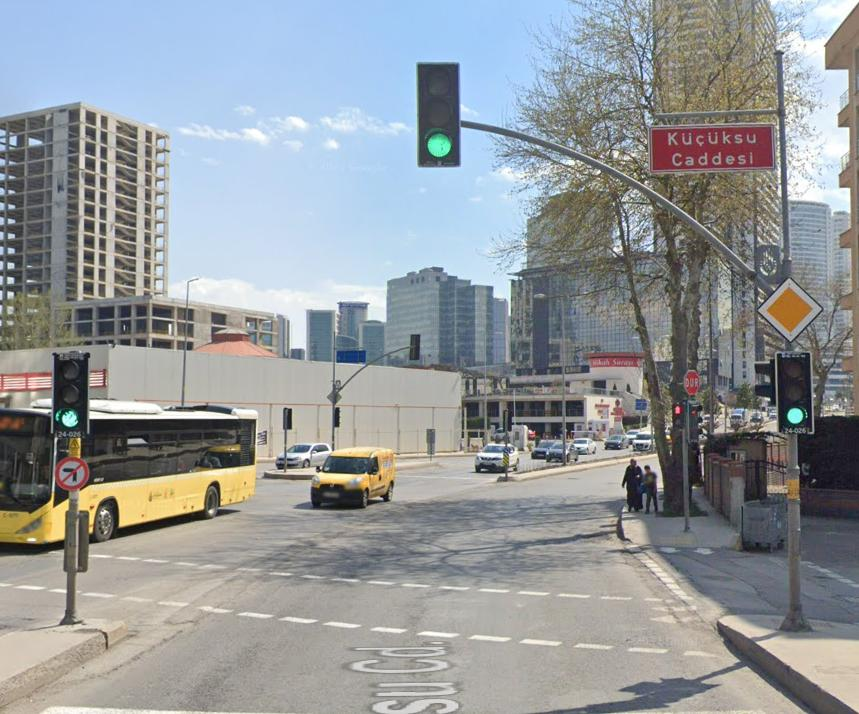greenlight: (418, 60, 460, 166), (775, 355, 814, 432), (50, 352, 86, 429)
